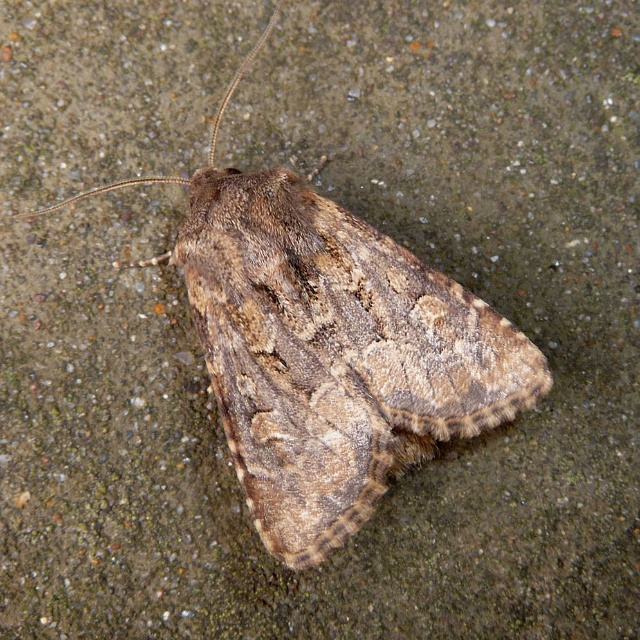Moths and butterflies: (13, 0, 560, 576)
